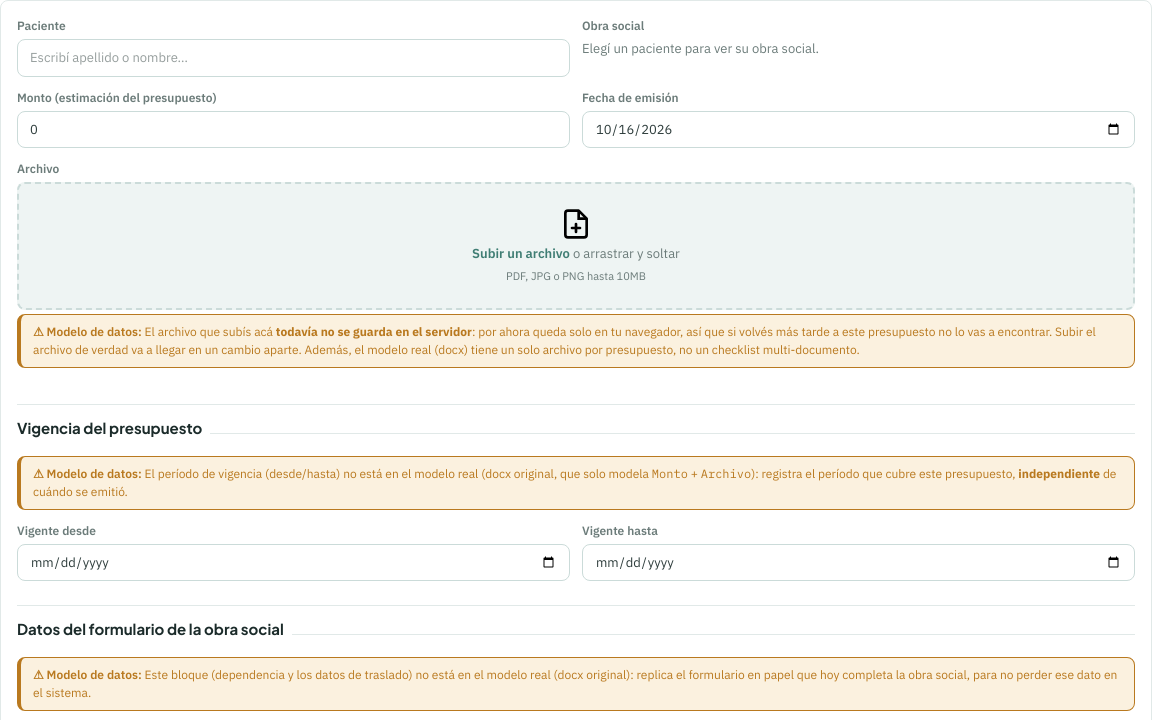
Test case: PresupuestoForm › al elegir un paciente, la obra social se deriva sola y se muestra de solo lectura (sin selector propio)
The width and height of the screenshot is (1152, 720).
Check: the text "Elegí un paciente para ver su obra social." is shown, box [582,40,819,57]
Click the dropdown labelled "Paciente".
click(294, 58)  # box [17,39,570,76]
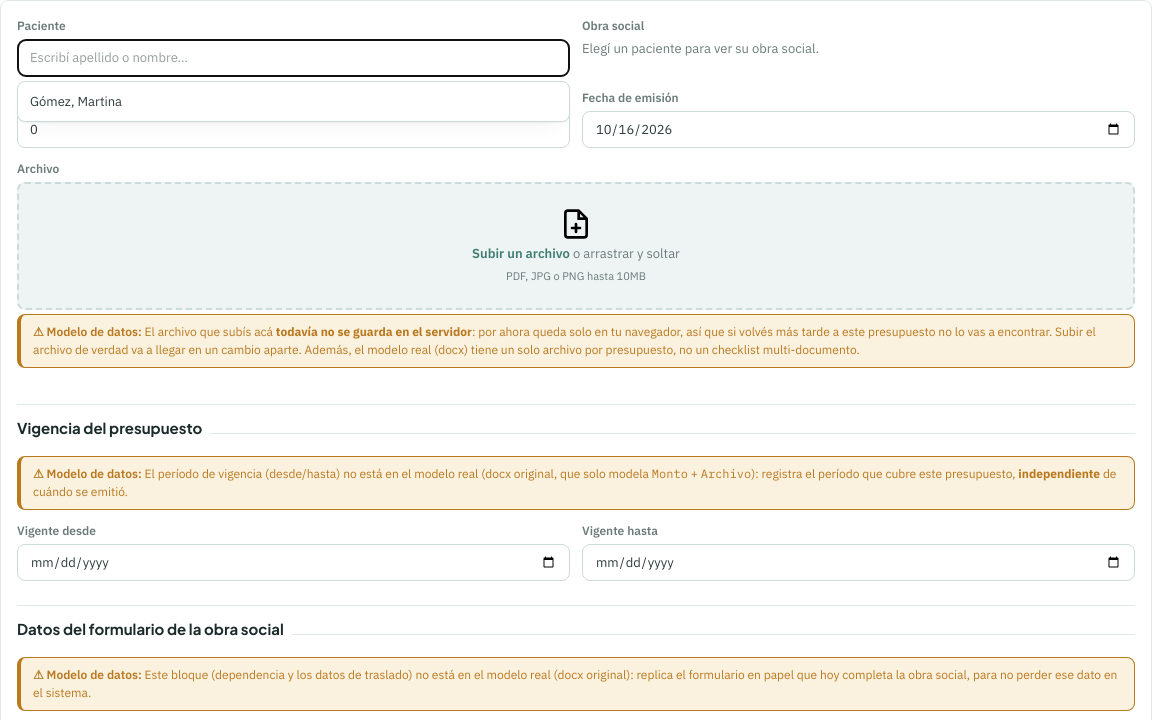
Click the option "Gómez, Martina".
click(76, 101)  # box [30,92,122,110]
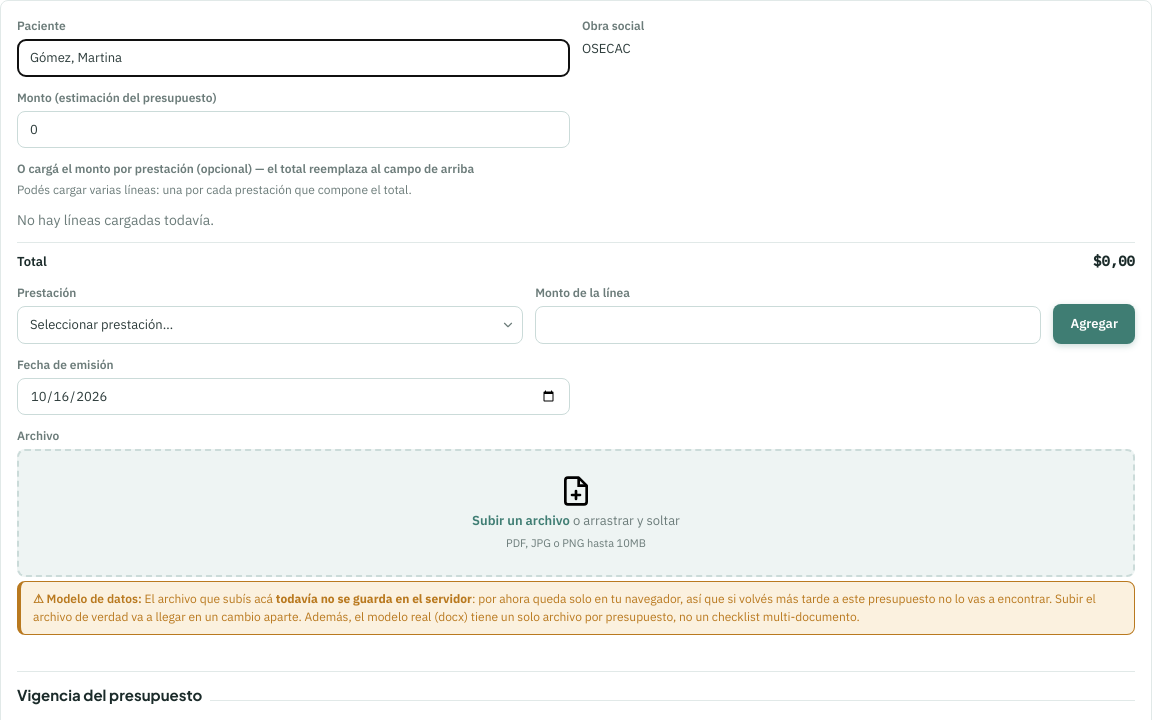
Check: the text "OSECAC" is shown, box [582,40,631,57]
